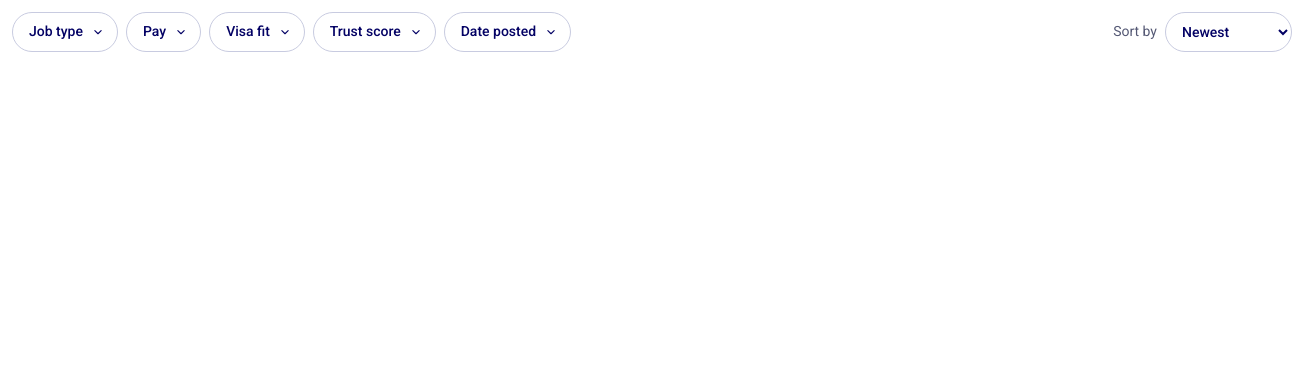
Scenario: FilterBar › closes the menu with Escape and returns focus to the pill
The width and height of the screenshot is (1304, 386).
Click the button "Pay" at (164, 32), box [126,12,201,52]
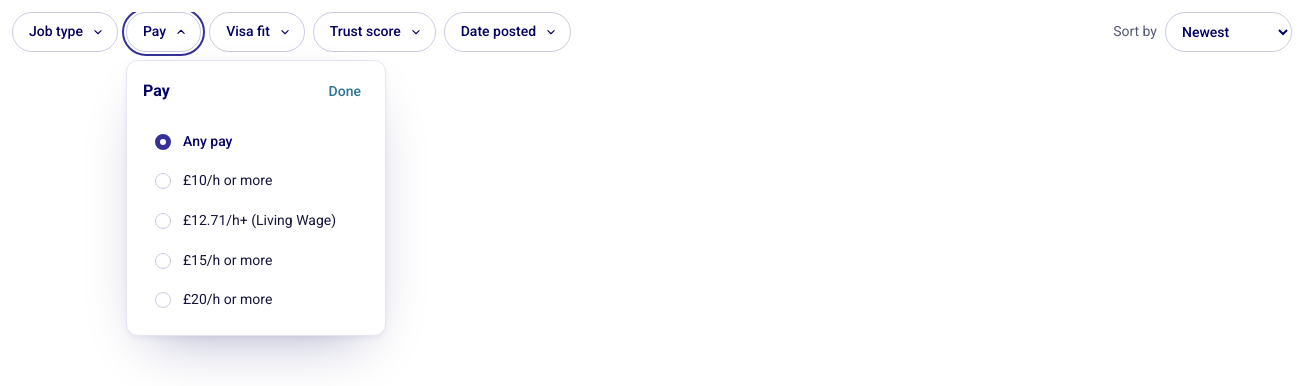
Now the element "Pay" is shown, box [126,60,386,336]
Press Escape
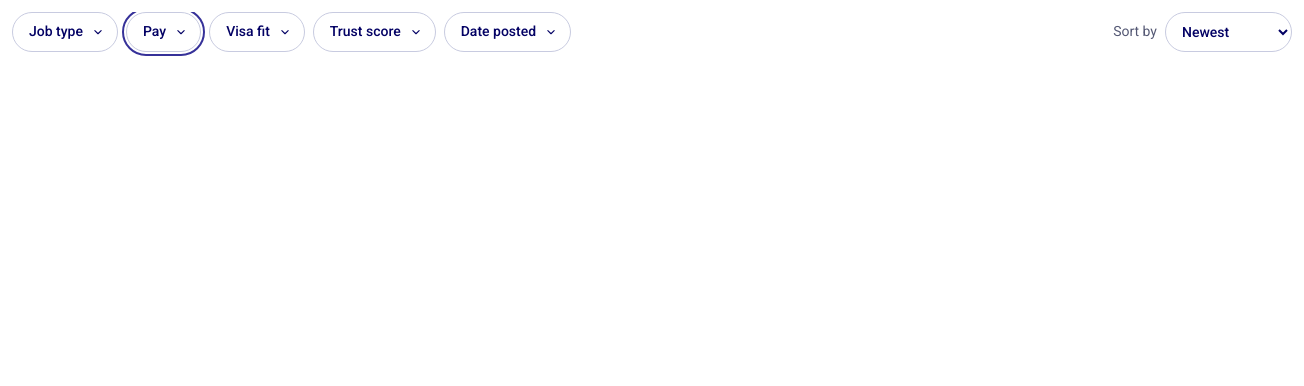
Now the button "Pay" is collapsed, box [126,12,201,52]
